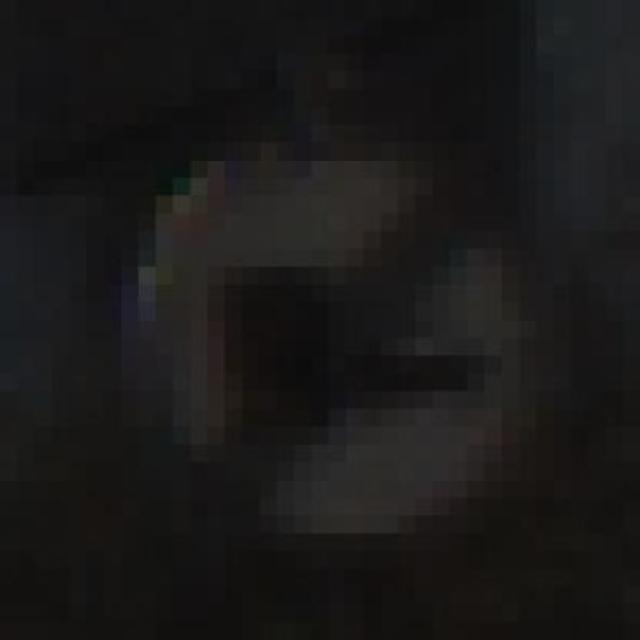Overtaking by trucks is prohibited: (86, 106, 588, 569)
